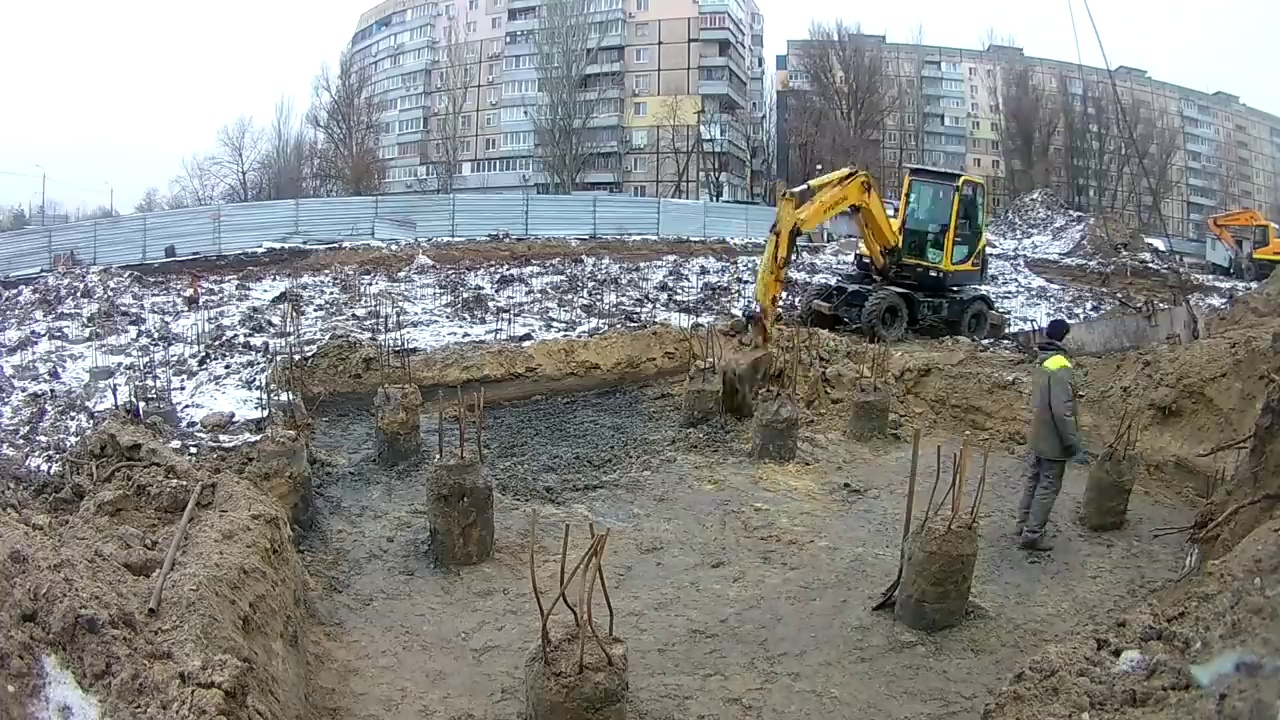helmet-off: (1046, 319, 1073, 350)
person: (1012, 320, 1084, 552)
